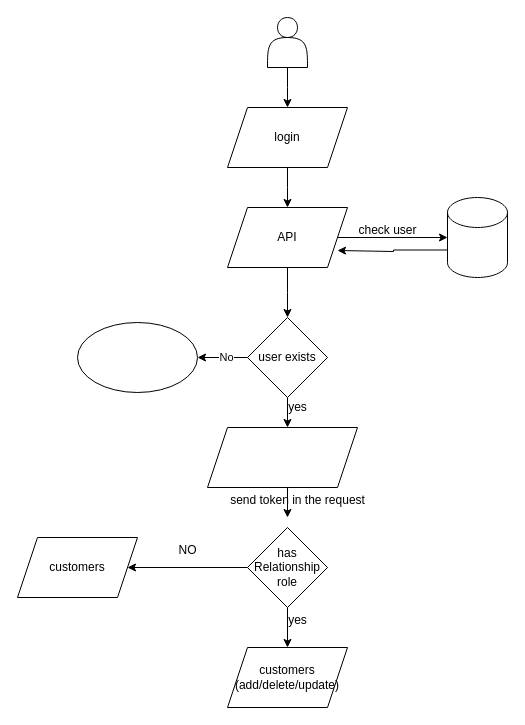
The diagram is 525 pixels wide and 725 high, and some of its shapes have lost their labels. Each missing label, with the centre of its shape:
"create session token" belongs at (x=282, y=457).
"data" belongs at (x=477, y=237).
"login page" belongs at (x=137, y=357).
